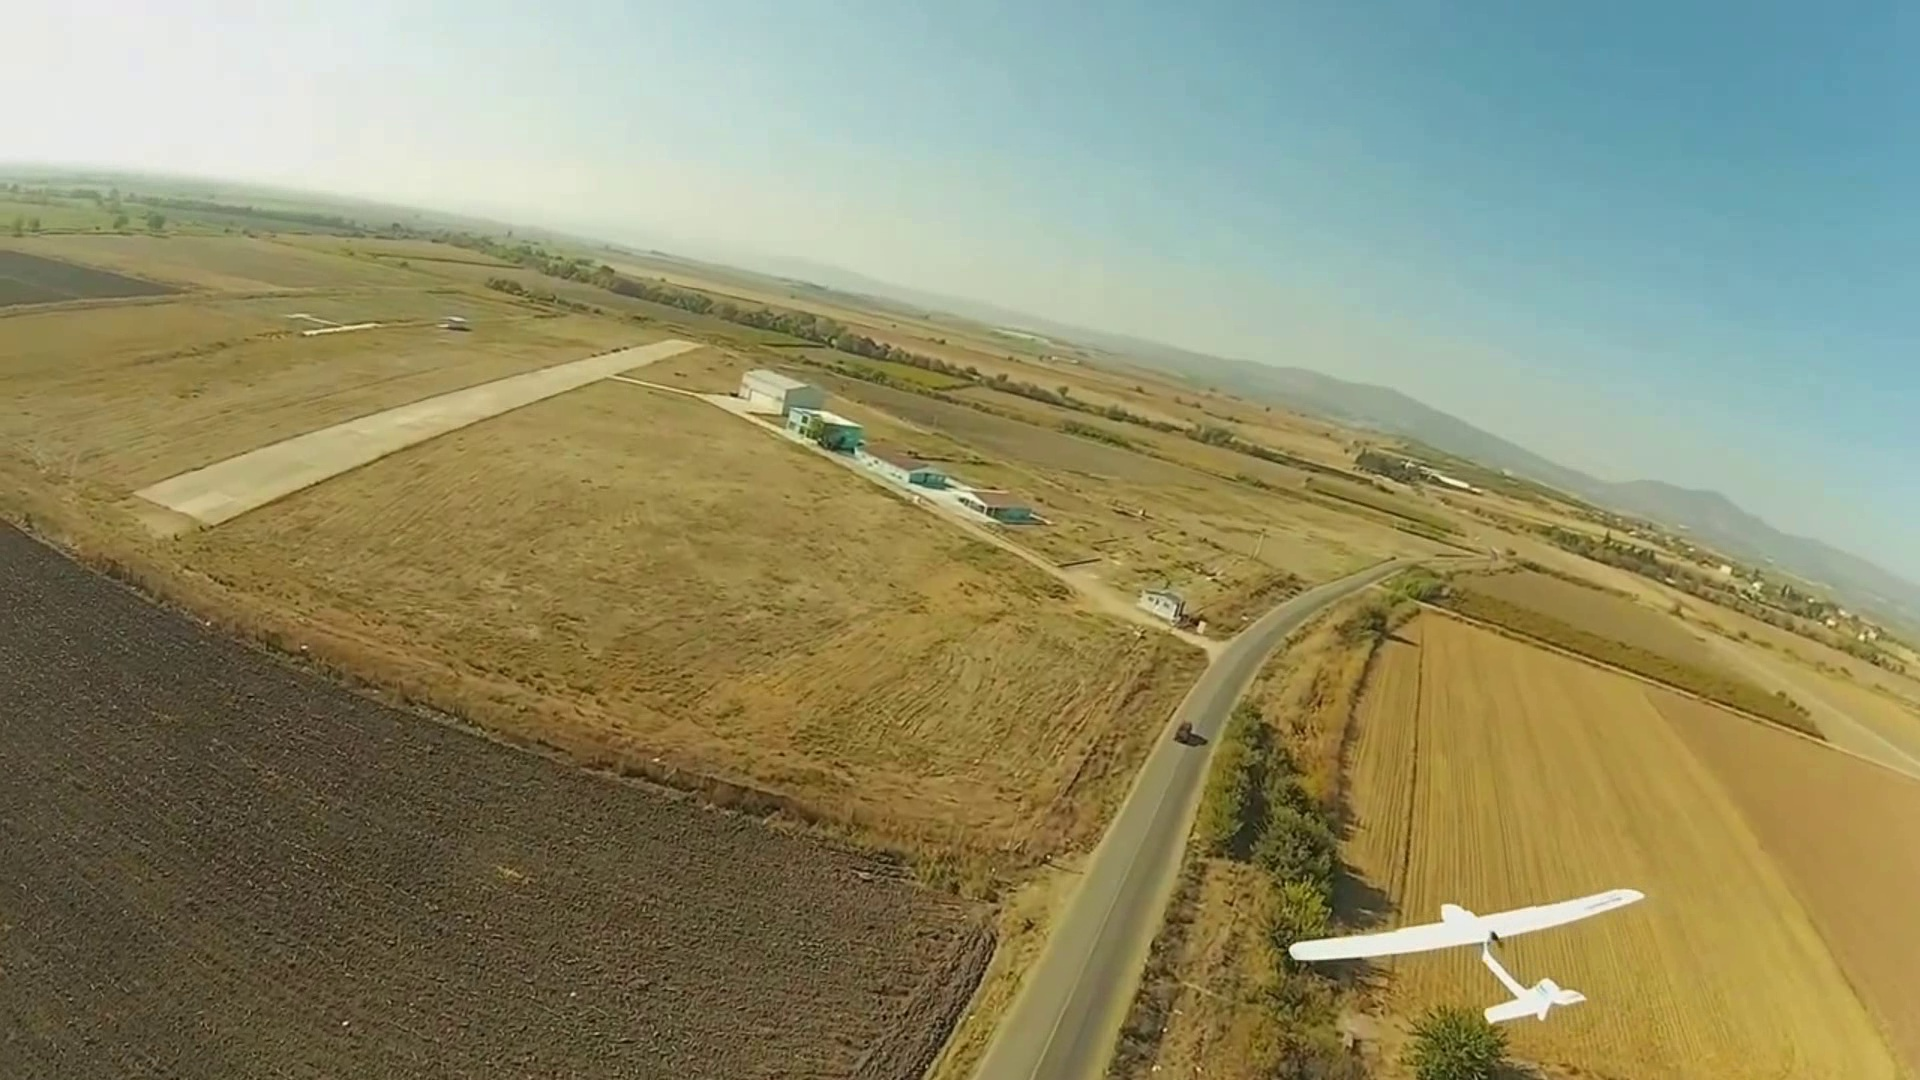airplane: (1284, 889, 1642, 1033)
